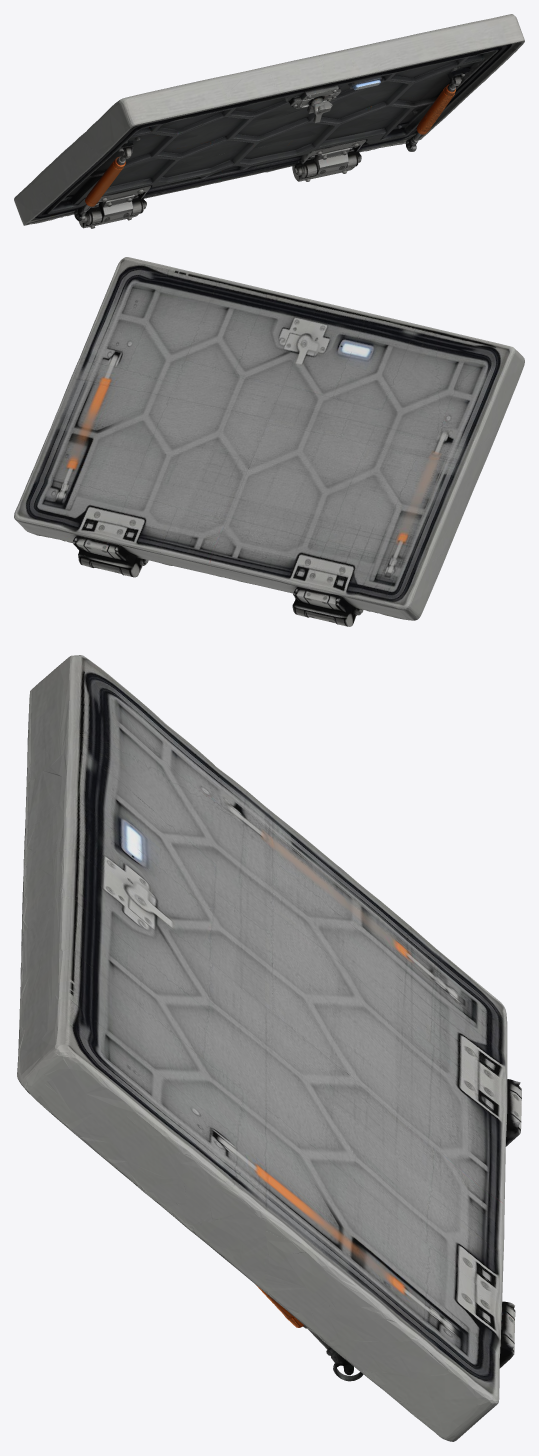
Rendered from deck.glb.
3 views of the same model, one above another, from view 1: azimuth 30°, elevation 25°; view 2: azimuth 150°, elevation 25°; view 3: azimuth 270°, elevation 25° (orthographic). The views are drawn at different scales.
Size of the model in its own units: 0.9998 by 0.5389 by 0.5542.
1 material, 1 textured.
